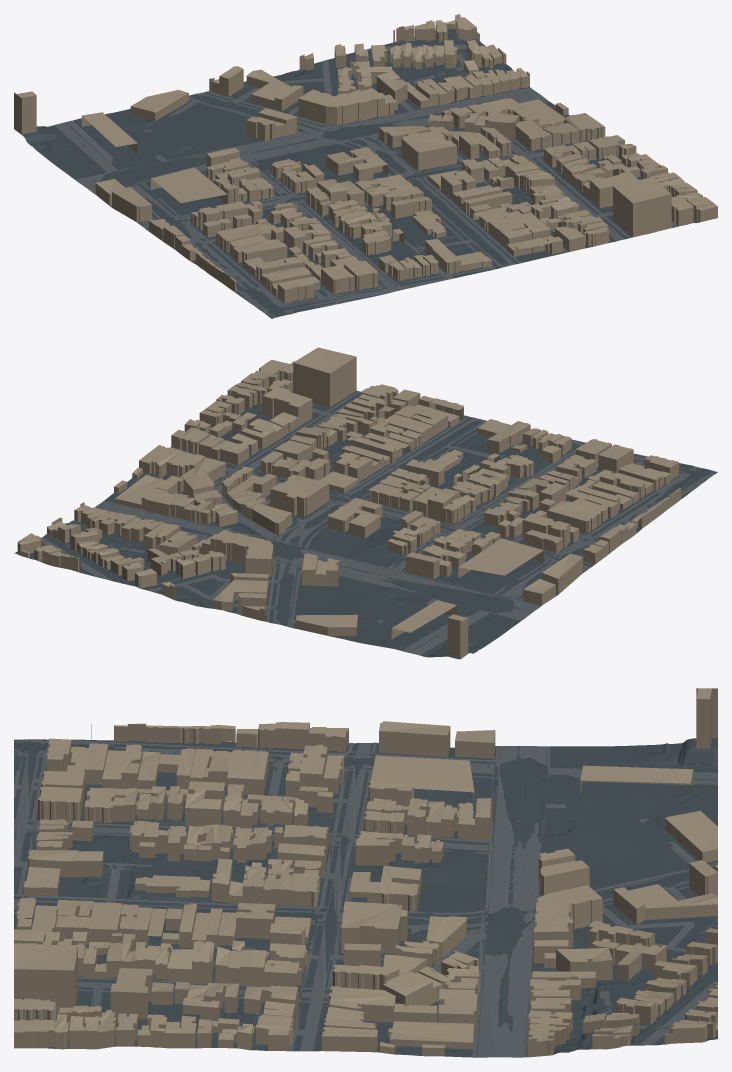
The model's file is epsg26910-1435-10880.lod0.glb.
3 views of the same model, one above another, from view 1: azimuth 30°, elevation 25°; view 2: azimuth 150°, elevation 25°; view 3: azimuth 270°, elevation 25° (orthographic). The views are drawn at different scales.
Parts seen in each view (by area): view 1: epsg26910-1435-10880-lod0; view 2: epsg26910-1435-10880-lod0; view 3: epsg26910-1435-10880-lod0.
Part boxes in pixels (<box>): epsg26910-1435-10880-lod0: <box>14,14,717,318</box>; epsg26910-1435-10880-lod0: <box>14,347,717,659</box>; epsg26910-1435-10880-lod0: <box>14,688,717,1057</box>.
Size of the model in its own units: 384 by 43.38 by 384.
